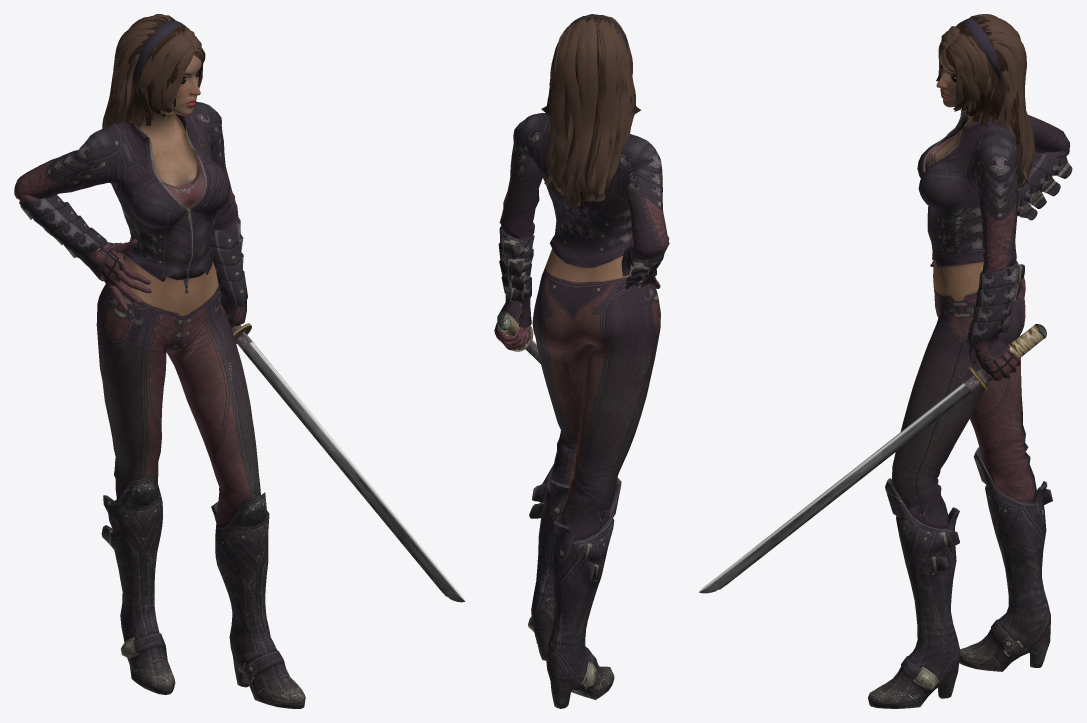
File: Talia.fbx
3 renders of one model, left to right at view 1: azimuth 30°, elevation 25°; view 2: azimuth 150°, elevation 25°; view 3: azimuth 270°, elevation 25°, orthographic. The views are drawn at different scales.
Parts seen in each view (by area): view 1: Talia_posed; view 2: Talia_posed; view 3: Talia_posed.
Part boxes in pixels (left/top/right/bottom): Talia_posed: left=14, top=14, right=465, bottom=708; Talia_posed: left=494, top=14, right=669, bottom=708; Talia_posed: left=699, top=14, right=1072, bottom=708.
Size of the model in its own units: 78.35 by 187 by 97.79.
6 materials, 6 textured.
